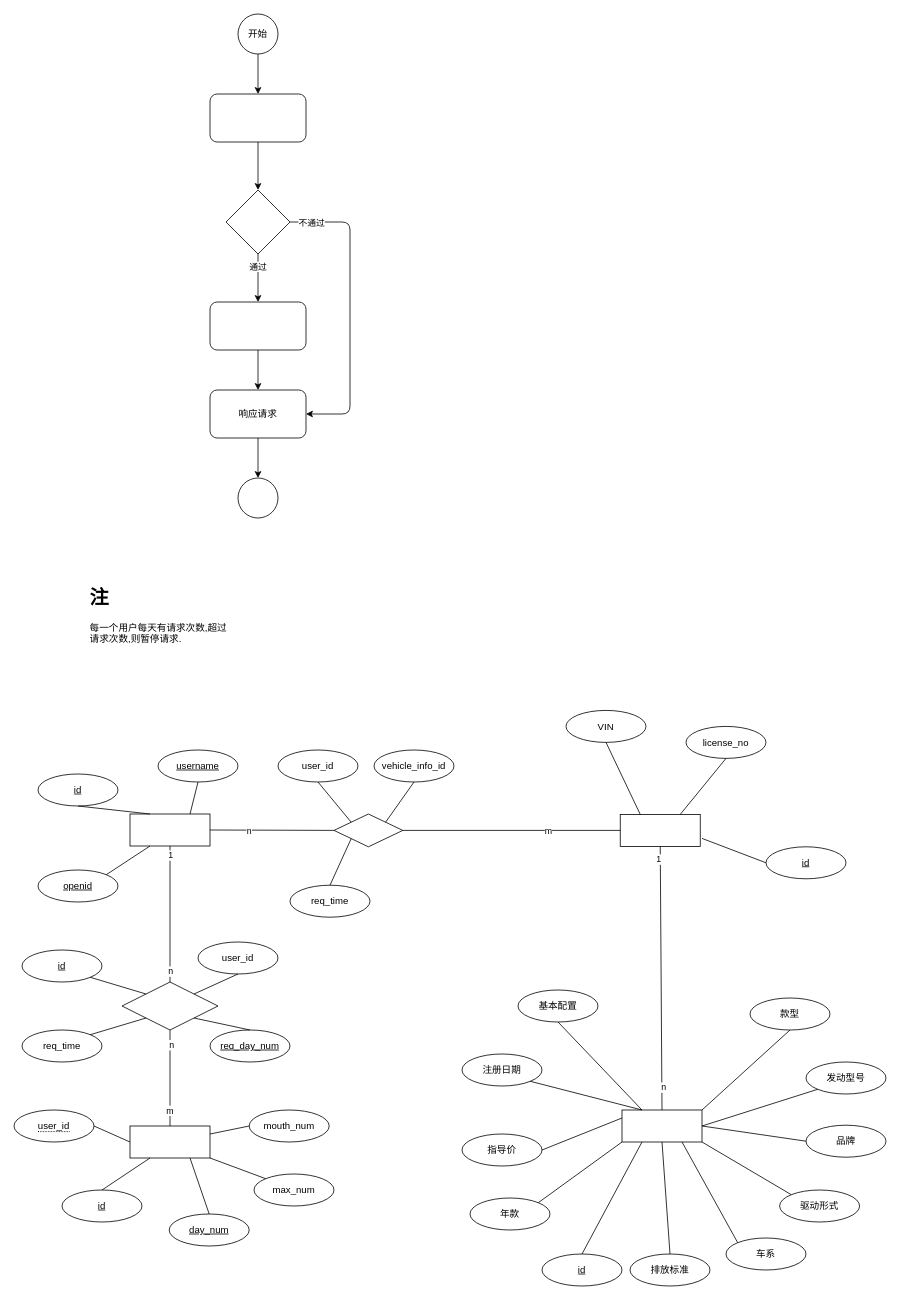
The diagram is 900 pixels wide and 1300 high, and some of its shapes have lost their labels. The shapes that lost their labels are listed below. From the top down, each one's box as (x1, y1, x2, y2) in pixels, then its label:
(209, 93, 306, 142): 接受请求
(225, 189, 290, 254): 验证身份
(209, 301, 306, 350): 后续处理
(237, 477, 278, 518): 结束
(129, 813, 210, 846): 用户
(333, 813, 403, 847): 查询
(619, 814, 700, 846): vehicle_info
(121, 981, 218, 1030): 请求记录
(129, 1125, 210, 1158): 请求量信息
(621, 1109, 702, 1142): 车辆信息
